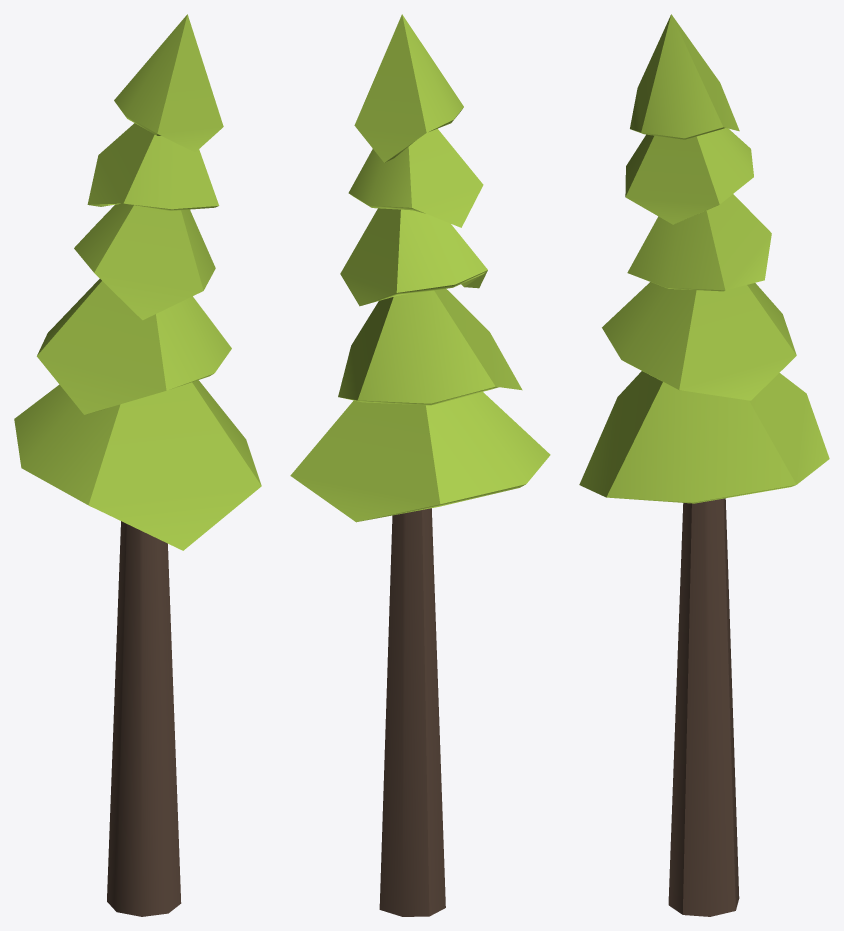
3 renders of one model, left to right at view 1: azimuth 30°, elevation 25°; view 2: azimuth 150°, elevation 25°; view 3: azimuth 270°, elevation 25°, orthographic. The views are drawn at different scales.
Visible parts, largest first — view 1: default10_Material_0; view 2: default10_Material_0; view 3: default10_Material_0.
Boxes of the visible parts, <box> form: default10_Material_0: <box>14,14,261,916</box>; default10_Material_0: <box>290,14,550,916</box>; default10_Material_0: <box>579,14,829,916</box>.
Bounding box in the file's own units: 0.0244 × 0.0964 × 0.0243.
1 material, 1 textured.
